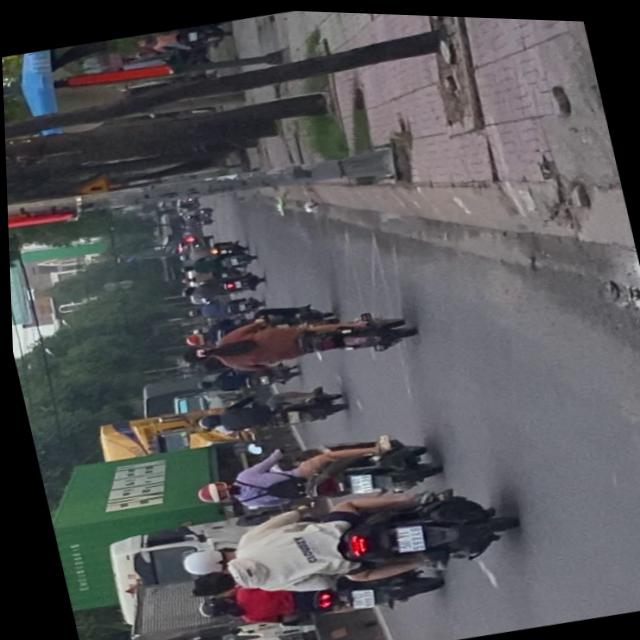helmet: (174, 541, 236, 579), (190, 590, 239, 622), (190, 476, 235, 507)
licenseplate: (162, 459, 525, 622), (183, 414, 443, 529), (170, 290, 420, 389), (185, 544, 442, 640)
motorcyclist: (185, 563, 238, 598), (178, 334, 230, 368)
nohelmet: (389, 520, 422, 552), (344, 469, 372, 493), (345, 585, 370, 607)
